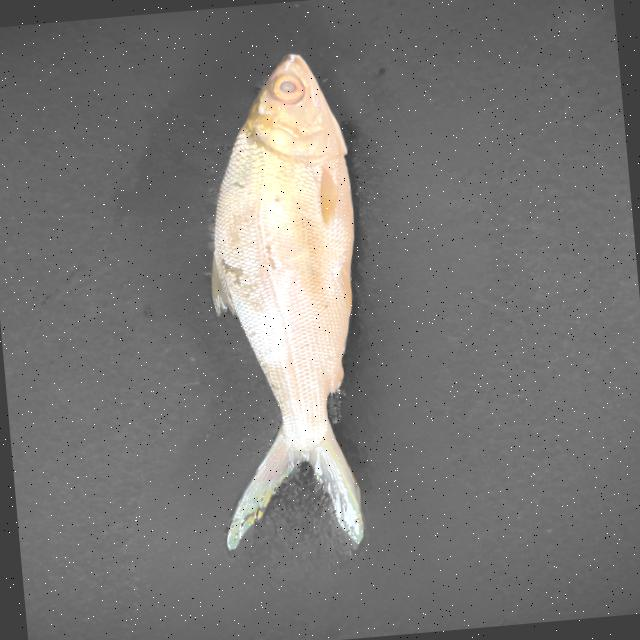550 g: (183, 49, 381, 556)
